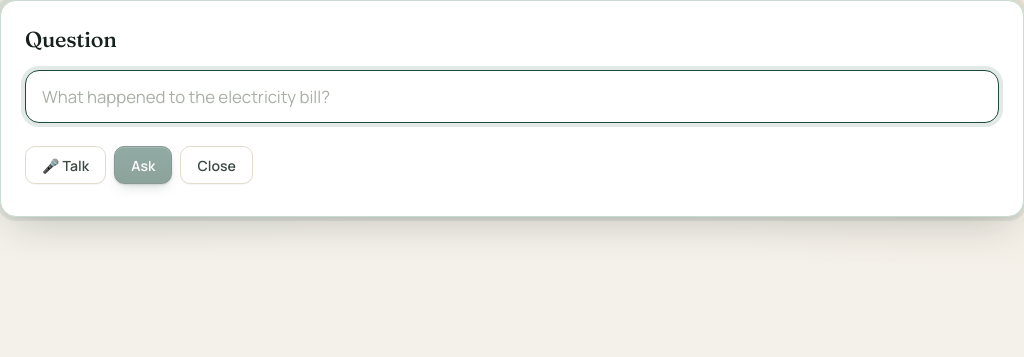
Test: Import from inbox command › runs the import straight from a spoken command, without pressing Ask
What coordinates should you click on to do the following:
click the button with aria-label "Start voice recording"
I would click on:
 (66, 165)
Its box is [25,146,106,184].
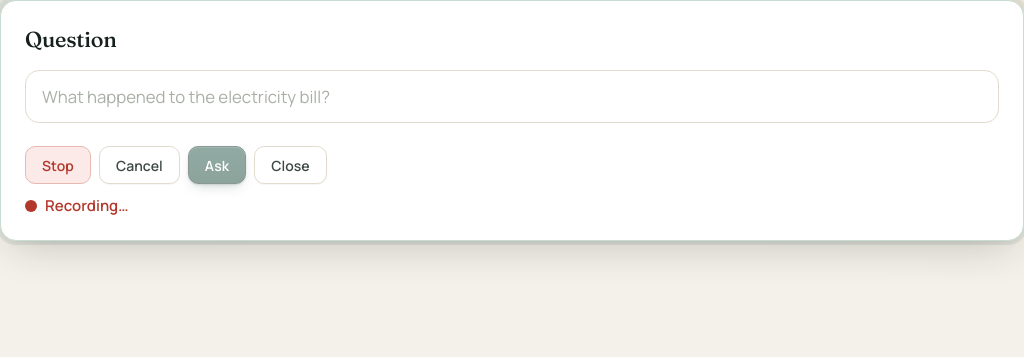
What coordinates should you click on to do the following:
click the button with aria-label "Stop recording"
I would click on:
 (58, 165)
Its box is [25,146,91,184].
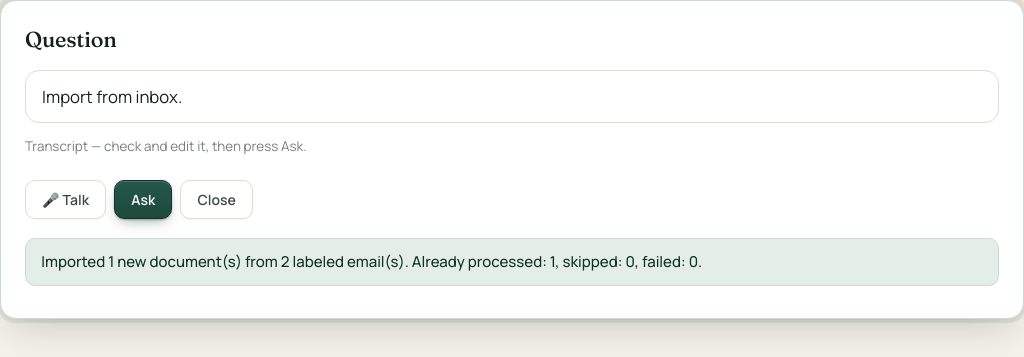
Check: the text "Imported 1 new document(s)" is shown, box [41,251,702,272]
